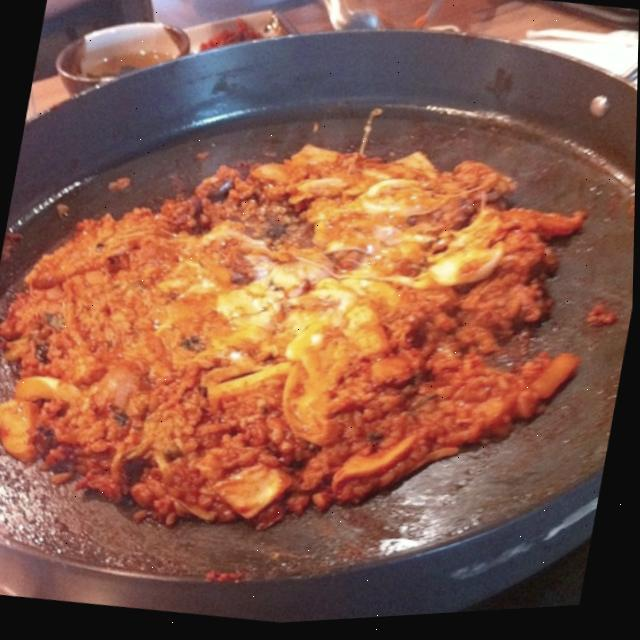鸡肉料理 含炸鸡: (0, 0, 640, 621)
